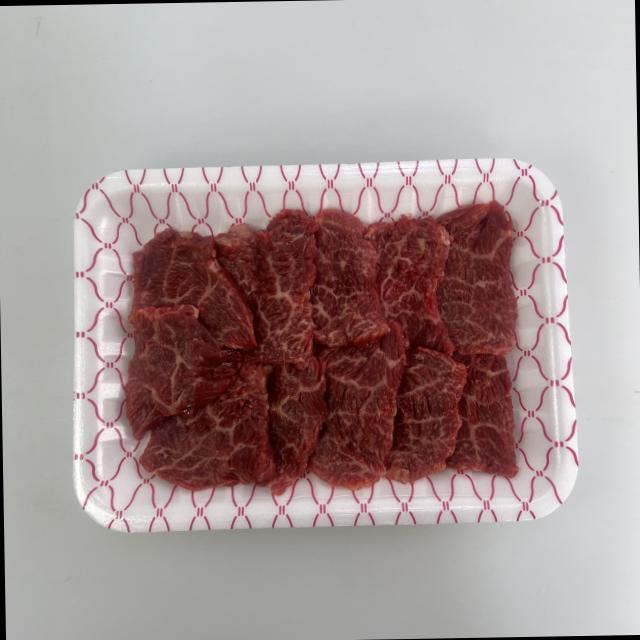beef: (128, 178, 550, 496)
